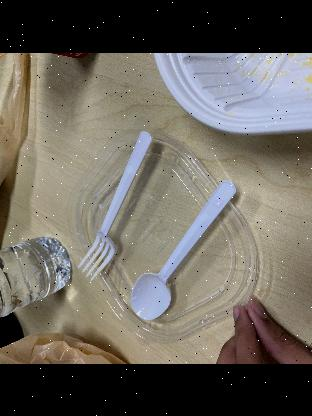Others: (128, 174, 238, 324), (75, 126, 162, 282)
